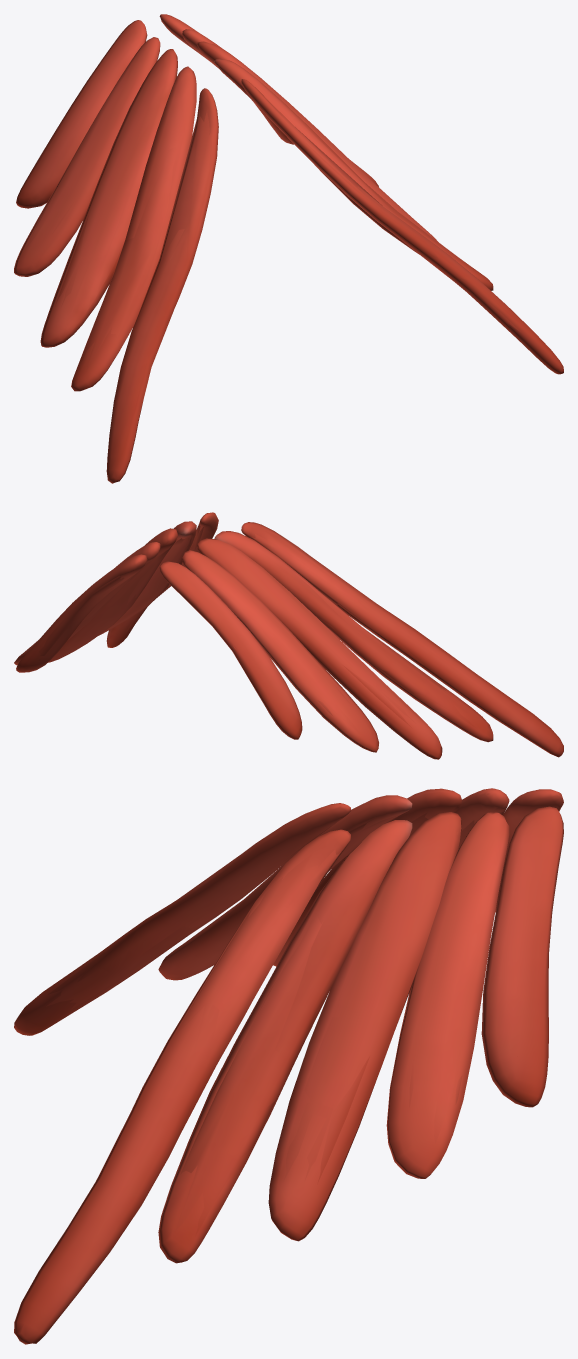
Rendered from serratus dorsalis caudalis.fbx.
3 views of the same model, one above another, from view 1: azimuth 30°, elevation 25°; view 2: azimuth 150°, elevation 25°; view 3: azimuth 270°, elevation 25° (orthographic). The views are drawn at different scales.
Visible parts, largest first — view 1: serratus dorsalis caudalis, serratus dorsalis caudalis low; view 2: serratus dorsalis caudalis, serratus dorsalis caudalis low; view 3: serratus dorsalis caudalis, serratus dorsalis caudalis low.
Boxes of the visible parts, x1=… form: serratus dorsalis caudalis: x1=14, y1=14, x2=563, y2=483; serratus dorsalis caudalis low: x1=25, y1=18, x2=522, y2=422; serratus dorsalis caudalis: x1=14, y1=512, x2=563, y2=759; serratus dorsalis caudalis low: x1=27, y1=524, x2=481, y2=733; serratus dorsalis caudalis: x1=14, y1=788, x2=563, y2=1344; serratus dorsalis caudalis low: x1=46, y1=793, x2=561, y2=1248.
Size of the model in its own units: 14.51 by 8.42 by 10.75.
Materials: 1 (1 with a texture image).
